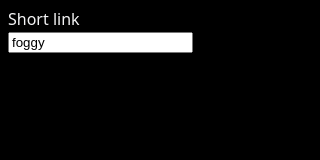
Test case: TextField › controlled: follows the value prop
The image size is (320, 160).
Type "_SF" into the field labelled "Short link". click: {"x": 100, "y": 42}
box: [8,32,193,53]
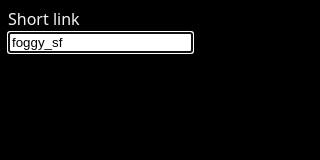
Result: the field labelled "Short link" holds "foggy_sf" at [8,32,193,53]
